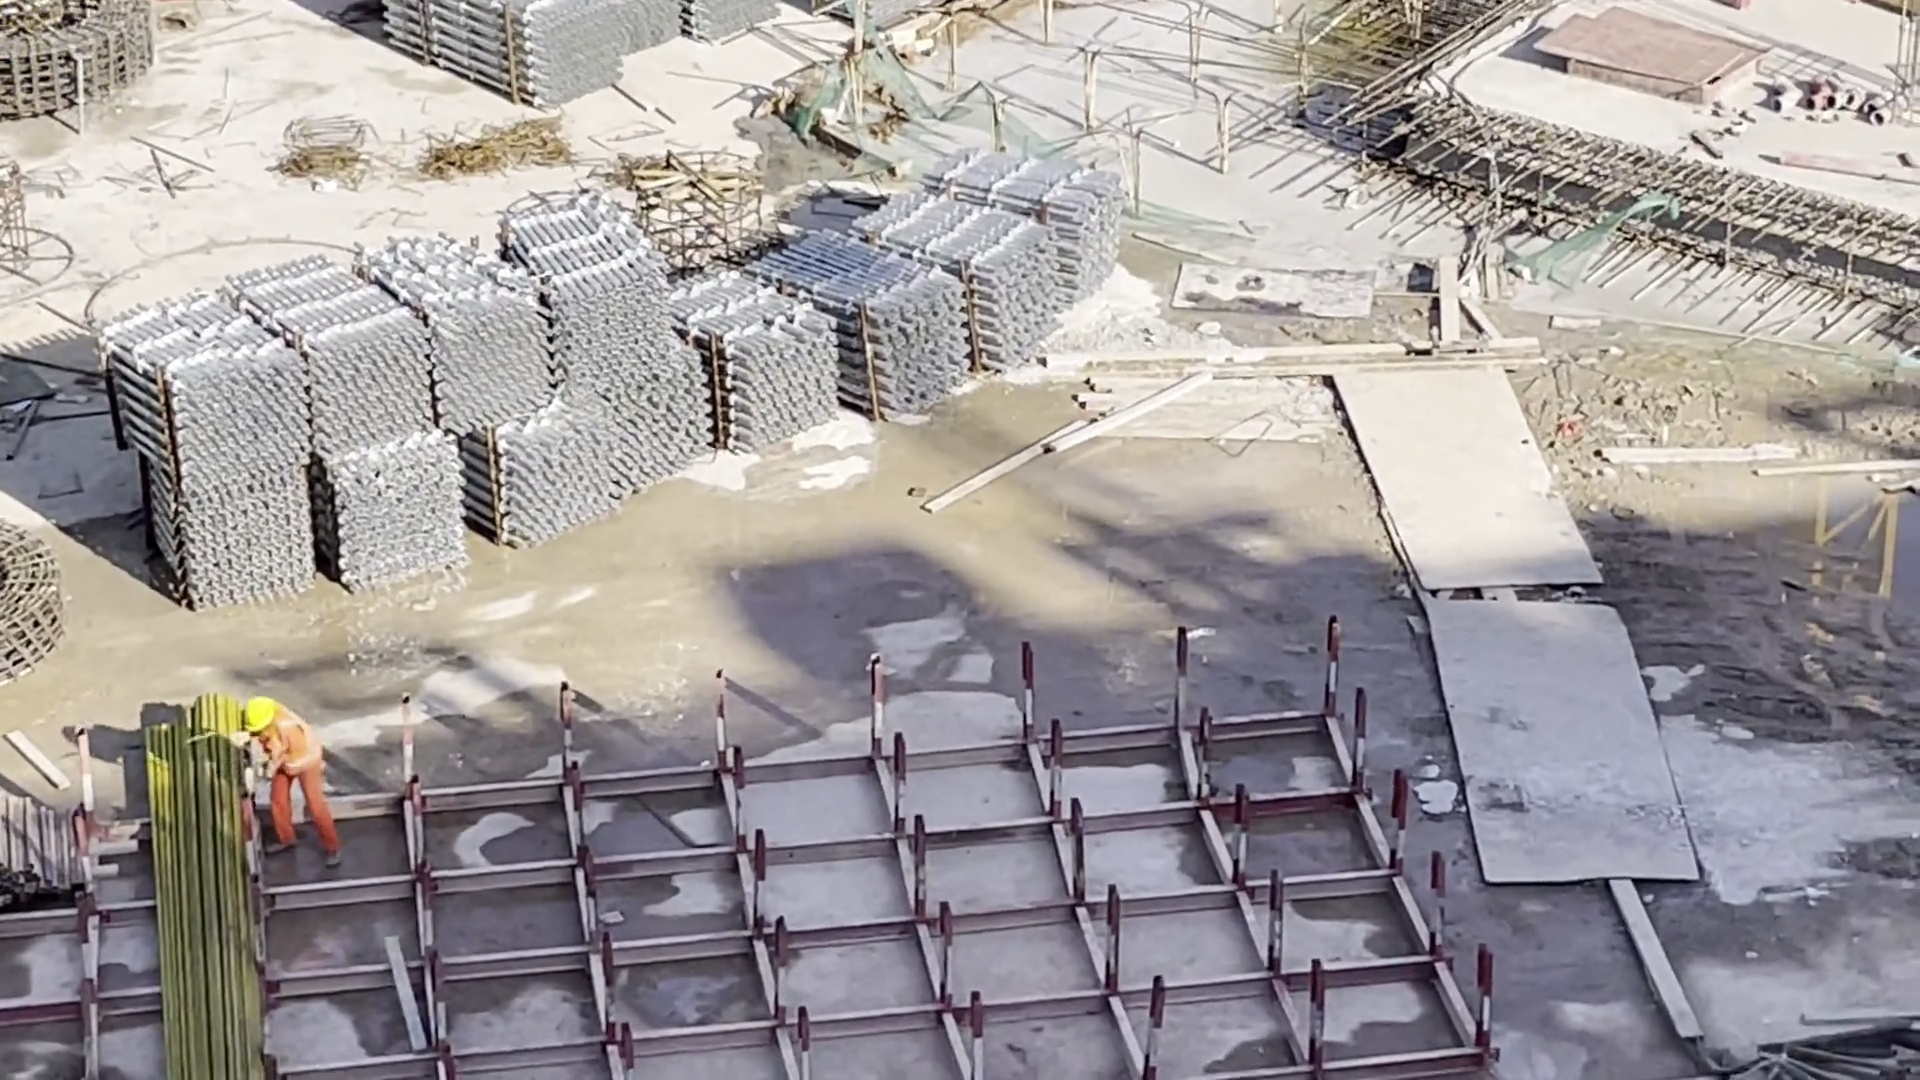board: (1532, 4, 1765, 96)
helmet: (239, 695, 281, 736)
person: (239, 688, 342, 871)
scaffold: (93, 152, 1112, 609), (370, 1, 760, 108)
vest: (265, 717, 320, 769)
